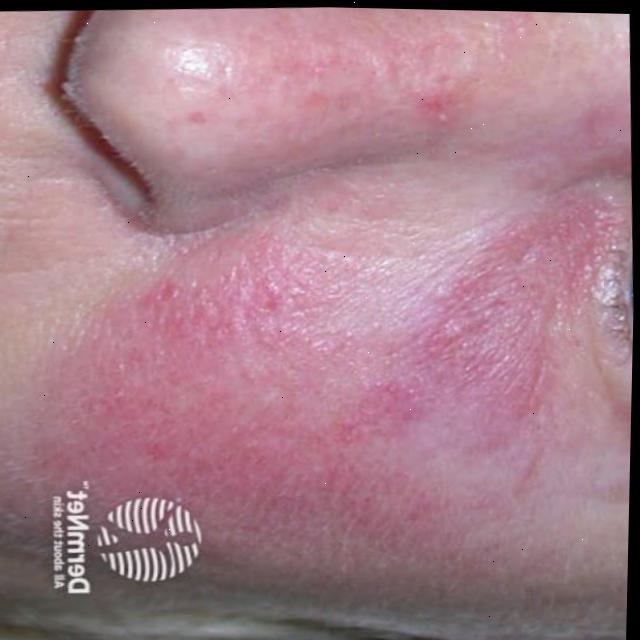Eczema: (152, 276, 531, 528)
